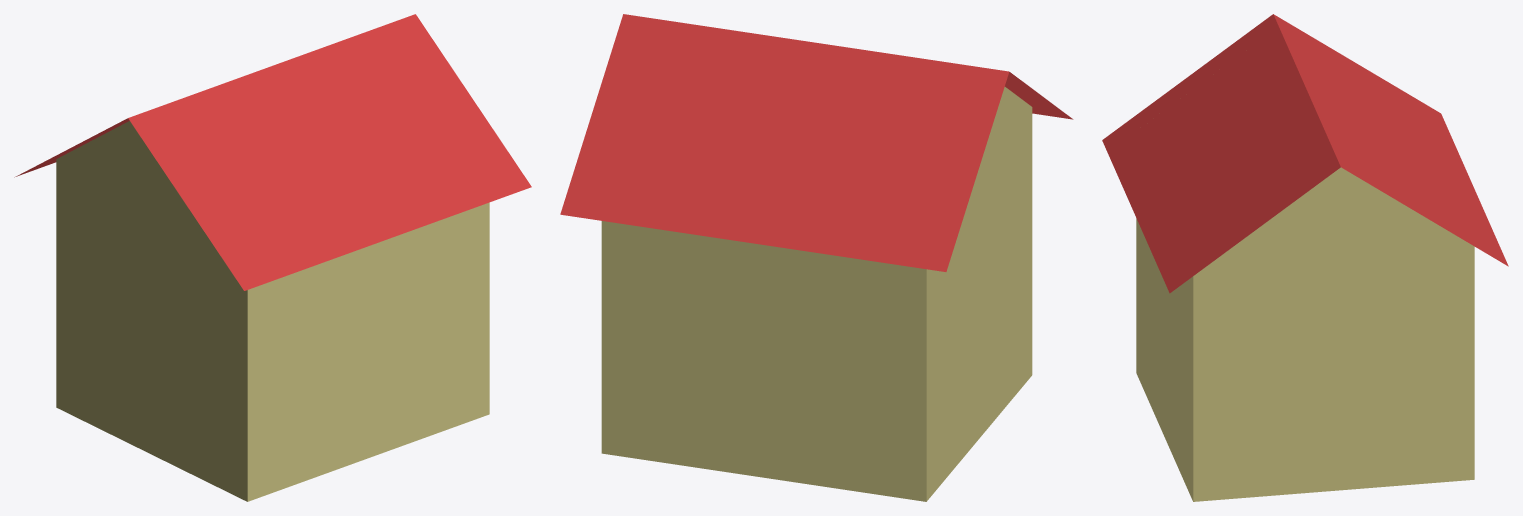
The picture shows the model from 3 angles, left to right: view 1: azimuth 30°, elevation 25°; view 2: azimuth 150°, elevation 25°; view 3: azimuth 270°, elevation 25°; orthographic projection. The views are drawn at different scales.
Bounding box in the file's own units: 14.52 × 13.87 × 12.62.
